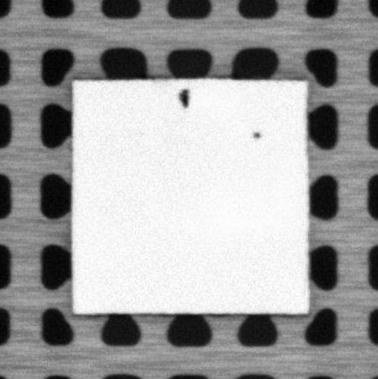DIE_INK: (178, 86, 190, 107), (252, 129, 261, 140)
